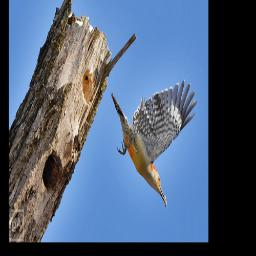Woodpecker: (110, 78, 198, 209)
